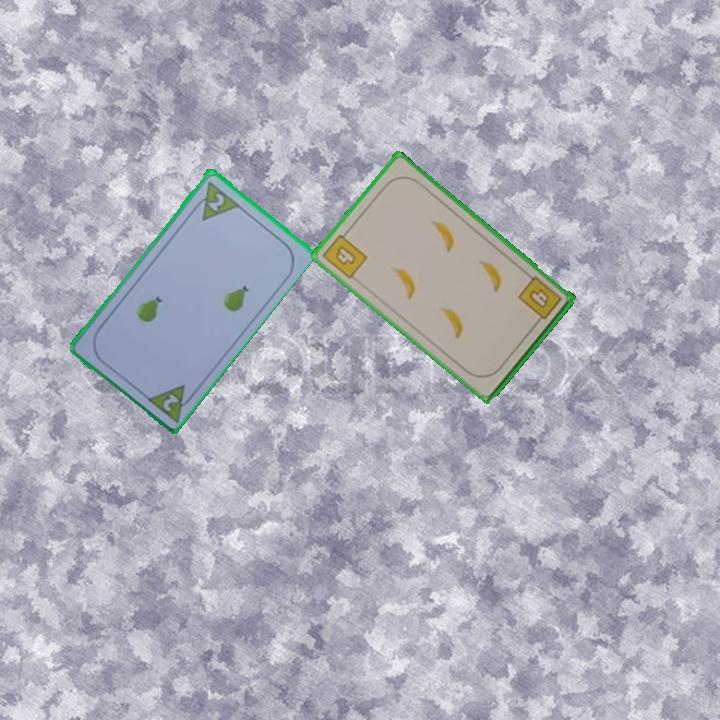2p: (142, 380, 199, 425), (204, 189, 228, 214)
4b: (319, 226, 370, 282), (514, 273, 564, 327)
